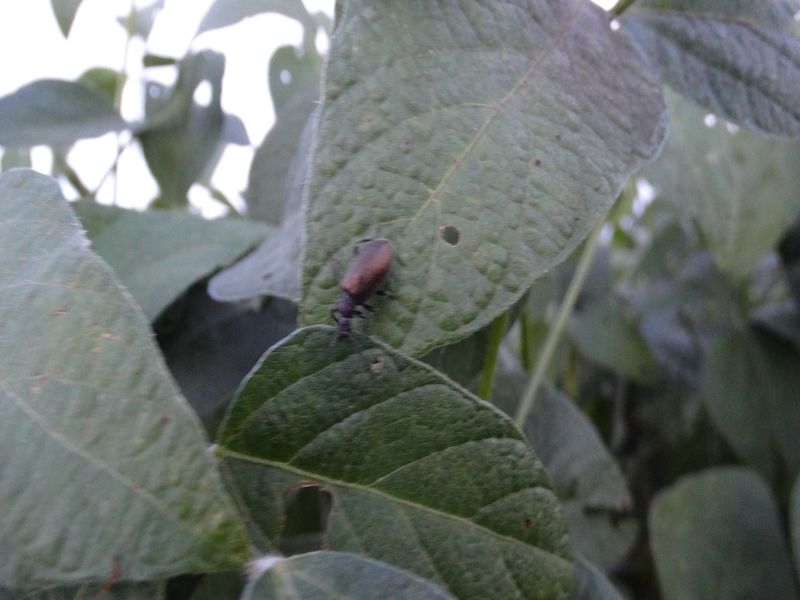Lagria_villosa: (308, 227, 419, 354)
